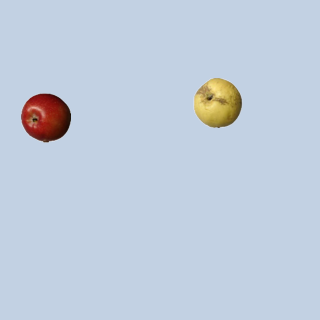Apple Braeburn: (20, 92, 70, 142)
Apple Golden 1: (192, 77, 242, 127)
